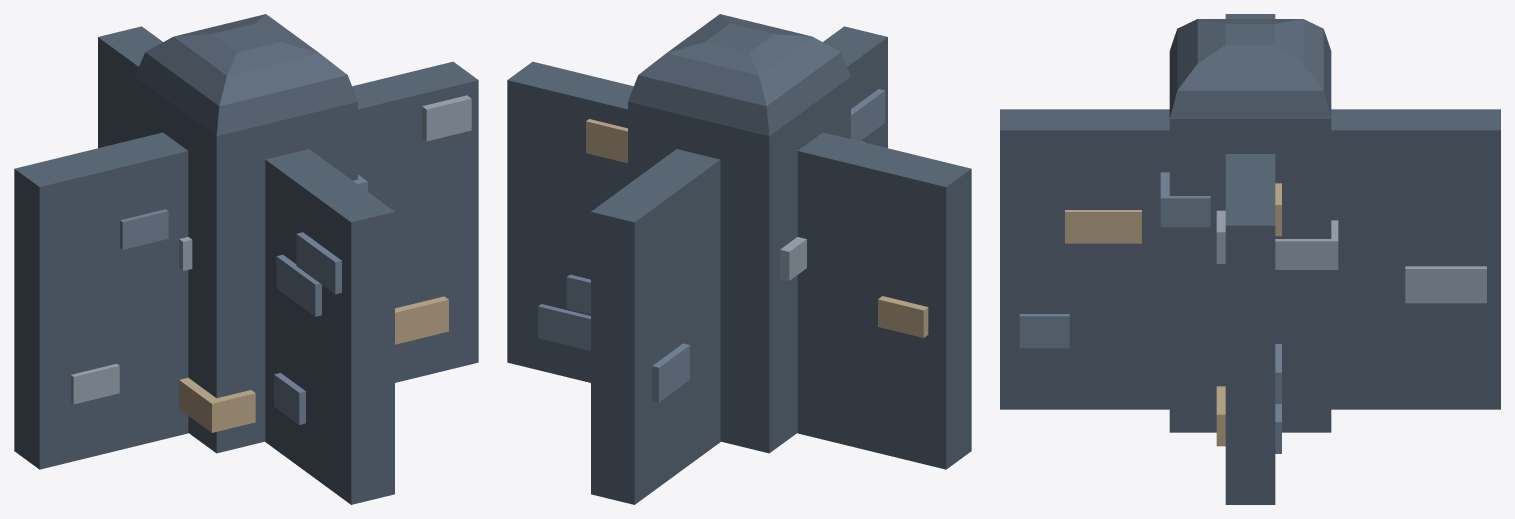
The model's file is wall5.fbx.
3 renders of one model, left to right at view 1: azimuth 30°, elevation 25°; view 2: azimuth 150°, elevation 25°; view 3: azimuth 270°, elevation 25°, orthographic.
Parts seen in each view (by area): view 1: wall5; view 2: wall5; view 3: wall5.
Boxes of the visible parts, box(x1,y1,x2,y2) form: wall5: box(14, 14, 478, 504); wall5: box(507, 14, 971, 504); wall5: box(1000, 14, 1500, 504).
Size of the model in its own units: 200 by 161 by 200.
